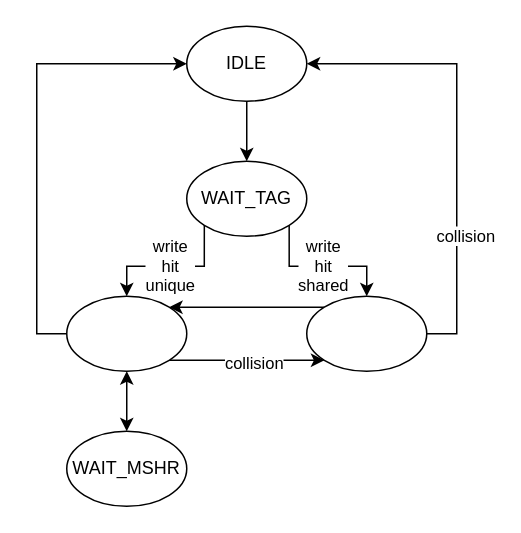
This 521x533 diagram has some shape labels left out. Each missing label, with the box of its shape:
MAKE UNIQUE: (305, 295, 427, 371)
STORE_REQ: (65, 295, 187, 371)
